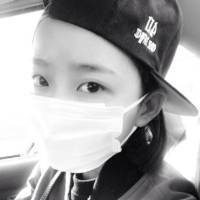face_mask: (22, 27, 134, 167)
